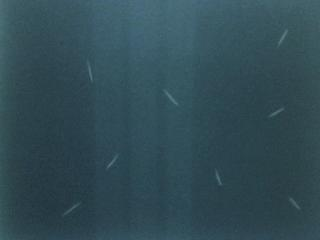scratch: (269, 23, 296, 53), (159, 82, 183, 112), (280, 190, 309, 214), (264, 100, 290, 125), (59, 197, 85, 221), (81, 57, 99, 87), (101, 150, 125, 172), (206, 168, 230, 190)
